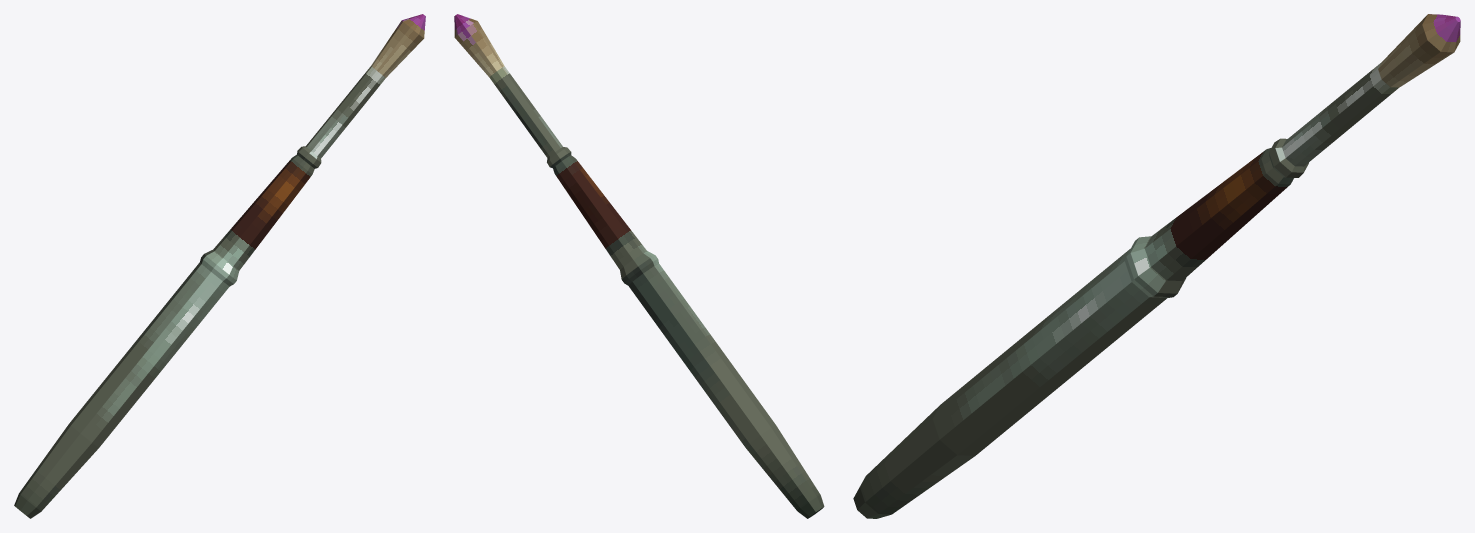
Rendered from brush.glb.
3 views of the same model, side by side, from view 1: azimuth 30°, elevation 25°; view 2: azimuth 150°, elevation 25°; view 3: azimuth 330°, elevation 25° (orthographic). The views are drawn at different scales.
Parts seen in each view (by area): view 1: cylinder_0; view 2: cylinder_0; view 3: cylinder_0.
Part boxes in pixels (x1=…): cylinder_0: x1=14, y1=14, x2=425, y2=518; cylinder_0: x1=454, y1=14, x2=824, y2=518; cylinder_0: x1=853, y1=14, x2=1460, y2=518.
Size of the model in its own units: 1.56 by 1.59 by 0.1954.
1 material, 1 textured.
